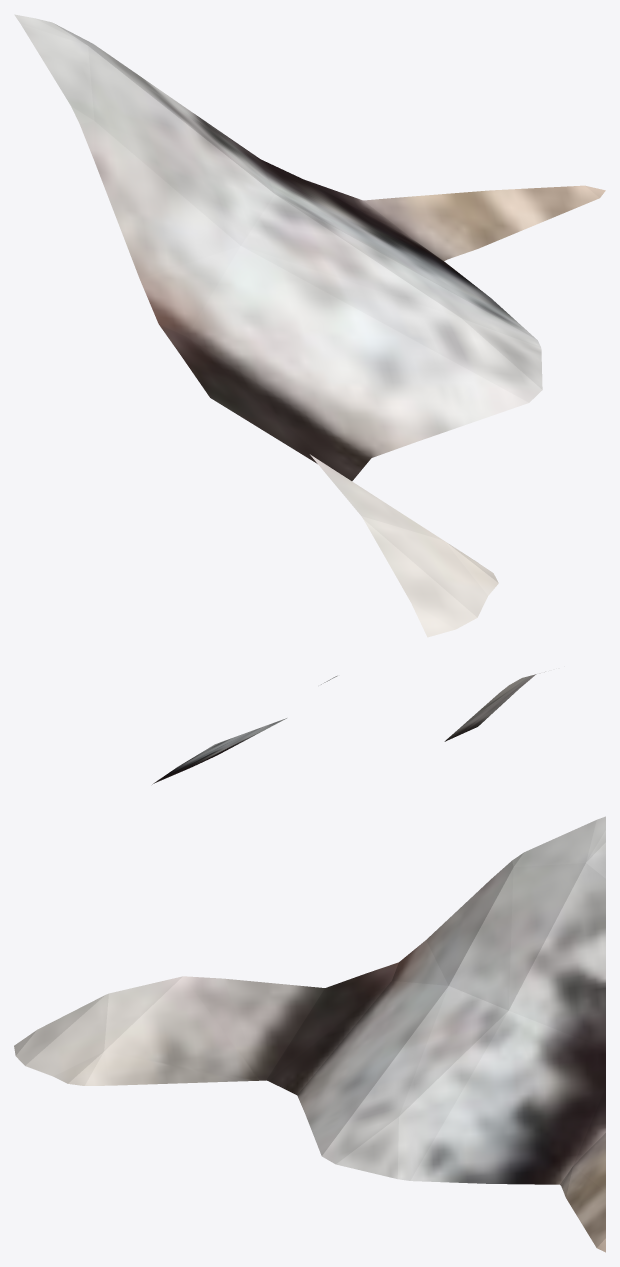
3 views of the same model, one above another, from view 1: azimuth 30°, elevation 25°; view 2: azimuth 150°, elevation 25°; view 3: azimuth 270°, elevation 25° (orthographic). The views are drawn at different scales.
Size of the model in its own units: 0.287 by 0.1484 by 0.3472.
Materials: 1 (1 with a texture image).
